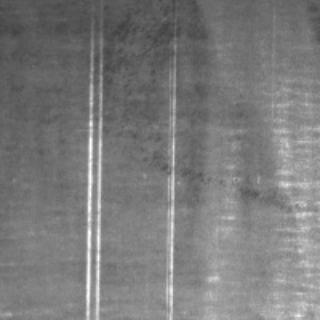scratches: (80, 8, 108, 318), (160, 34, 182, 318)
